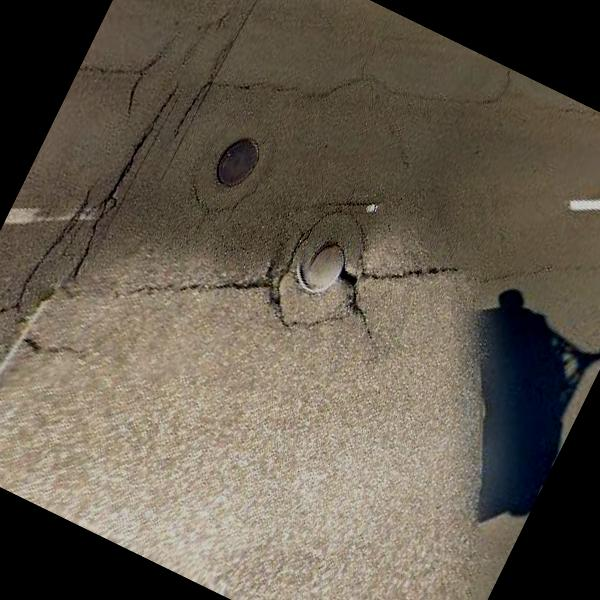manhole: (188, 111, 282, 221)
